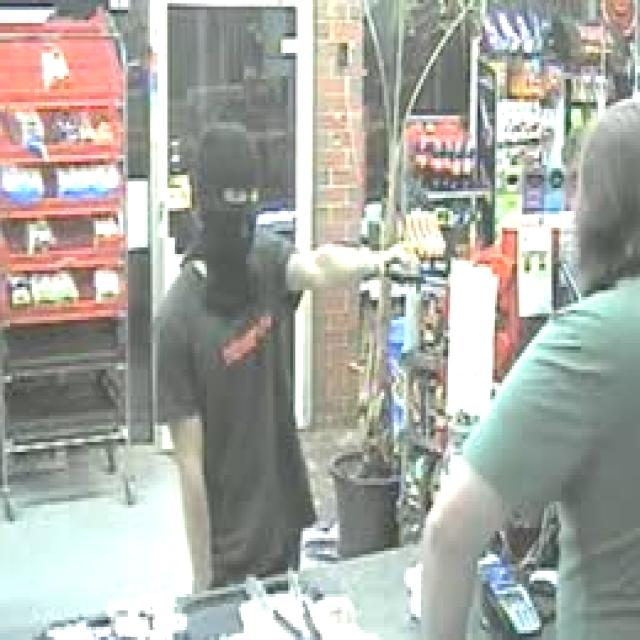pistol: (382, 237, 431, 297)
